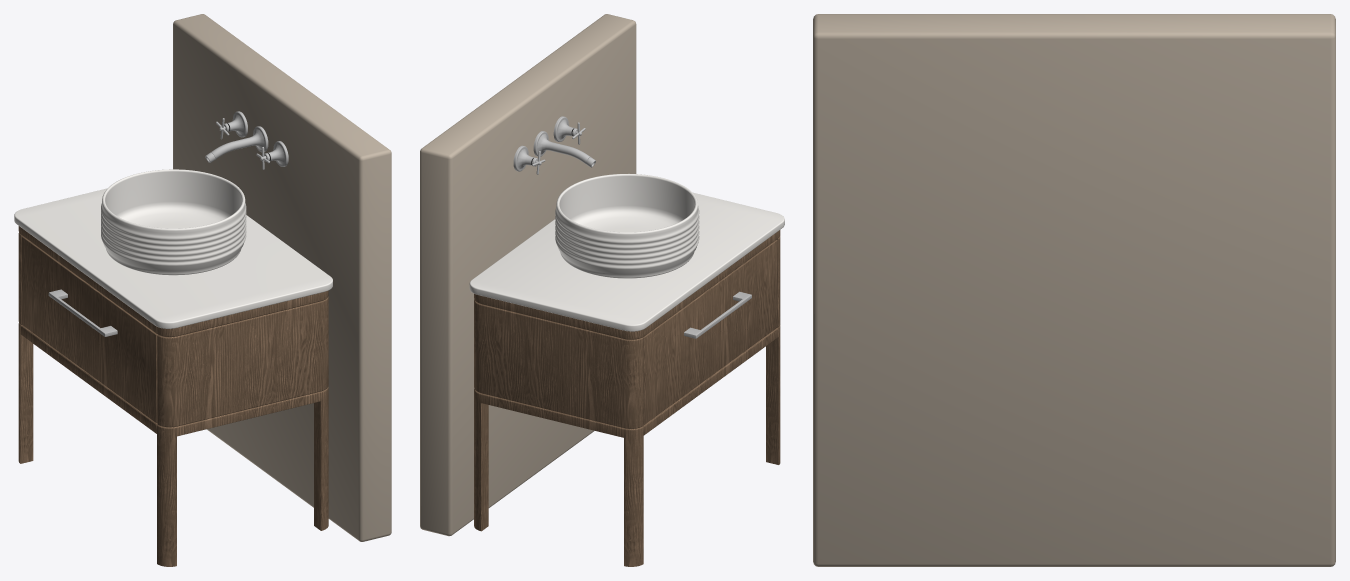
File: designer_vessel_on_wooden_vanity_unit.glb
3 views of the same model, side by side, from view 1: azimuth 30°, elevation 25°; view 2: azimuth 150°, elevation 25°; view 3: azimuth 270°, elevation 25° (orthographic). The views are drawn at different scales.
Visible parts, largest first — view 1: Vanity furniture legs contemporary, Backwall, Basin Countertop Wave, Basin Tap Wall Mounted Cross Modern; view 2: Vanity furniture legs contemporary, Backwall, Basin Countertop Wave, Basin Tap Wall Mounted Cross Modern; view 3: Backwall.
Boxes of the visible parts, x1,y1,x2,y2 form: Vanity furniture legs contemporary: (14,188,332,566); Backwall: (173,14,391,541); Basin Countertop Wave: (101,169,246,275); Basin Tap Wall Mounted Cross Modern: (205,111,288,169); Vanity furniture legs contemporary: (469,192,784,566); Backwall: (420,14,636,536); Basin Countertop Wave: (555,173,699,278); Basin Tap Wall Mounted Cross Modern: (513,116,595,174); Backwall: (813,14,1335,566).
Size of the model in its own units: 0.7282 by 1.23 by 1.09.
5 materials, 1 textured.
